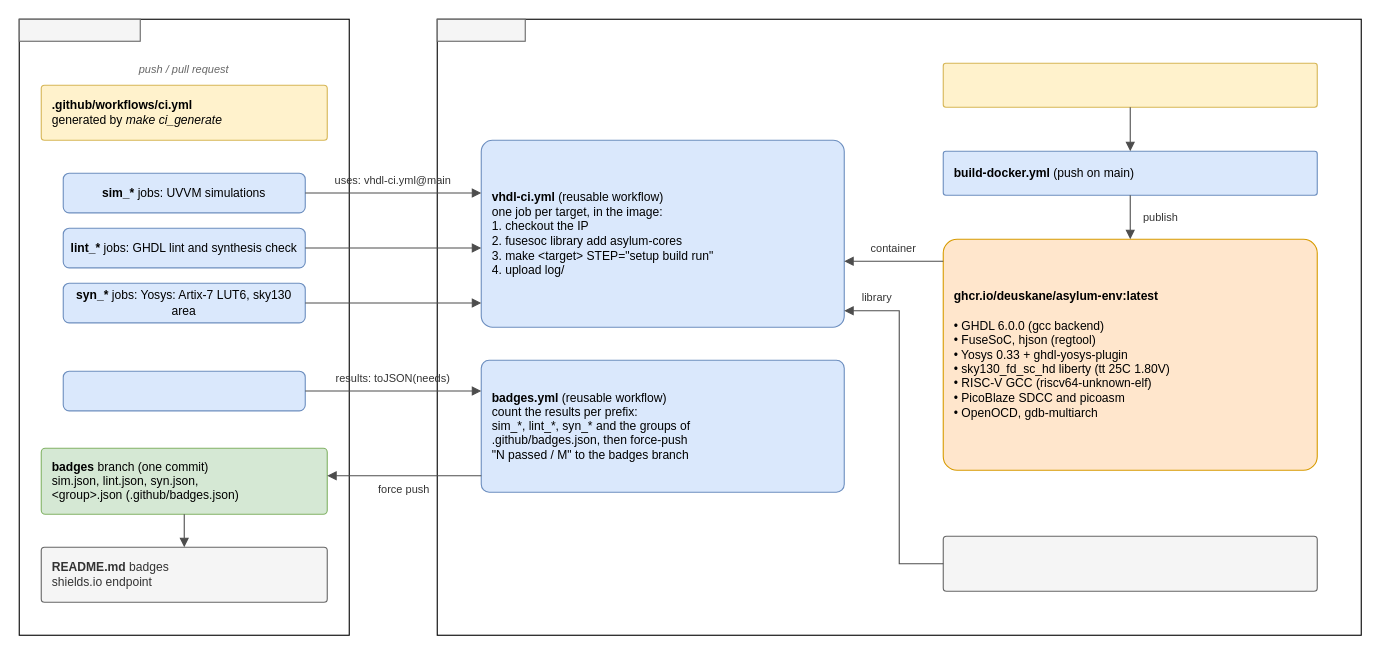
The diagram is 1381 pixels wide and 655 high, and some of its shapes have lost their labels. The centre of each missing label's shape, as x and y in pixels:
"asylum-ci" belongs at (480,29).
"badges job (push on main)" belongs at (183,390).
"deuskane/asylum-cores FuseSoC library of every IP and UVVM" belongs at (1129,563).
"docker/Dockerfile (pinned versions)" belongs at (1129,84).
"IP repository" belongs at (79,29).
